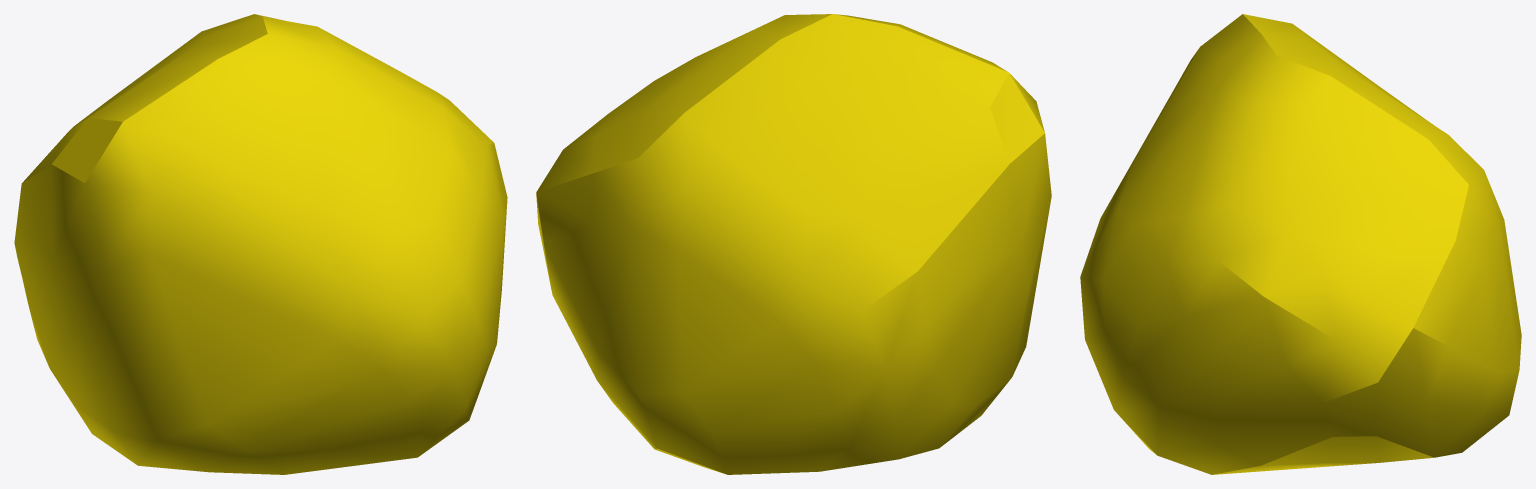
File: Envi_Rock_02_v02.fbx
The picture shows the model from 3 angles, left to right: view 1: azimuth 30°, elevation 25°; view 2: azimuth 150°, elevation 25°; view 3: azimuth 270°, elevation 25°; orthographic projection. The views are drawn at different scales.
Visible parts, largest first — view 1: Truck_Ex_Set03_Rock_Large_02; view 2: Truck_Ex_Set03_Rock_Large_02; view 3: Truck_Ex_Set03_Rock_Large_02.
Boxes of the visible parts, left/top/right/bottom form: Truck_Ex_Set03_Rock_Large_02: left=14, top=14, right=507, bottom=474; Truck_Ex_Set03_Rock_Large_02: left=536, top=14, right=1051, bottom=474; Truck_Ex_Set03_Rock_Large_02: left=1080, top=14, right=1521, bottom=474.
Size of the model in its own units: 48.12 by 41.11 by 44.36.
